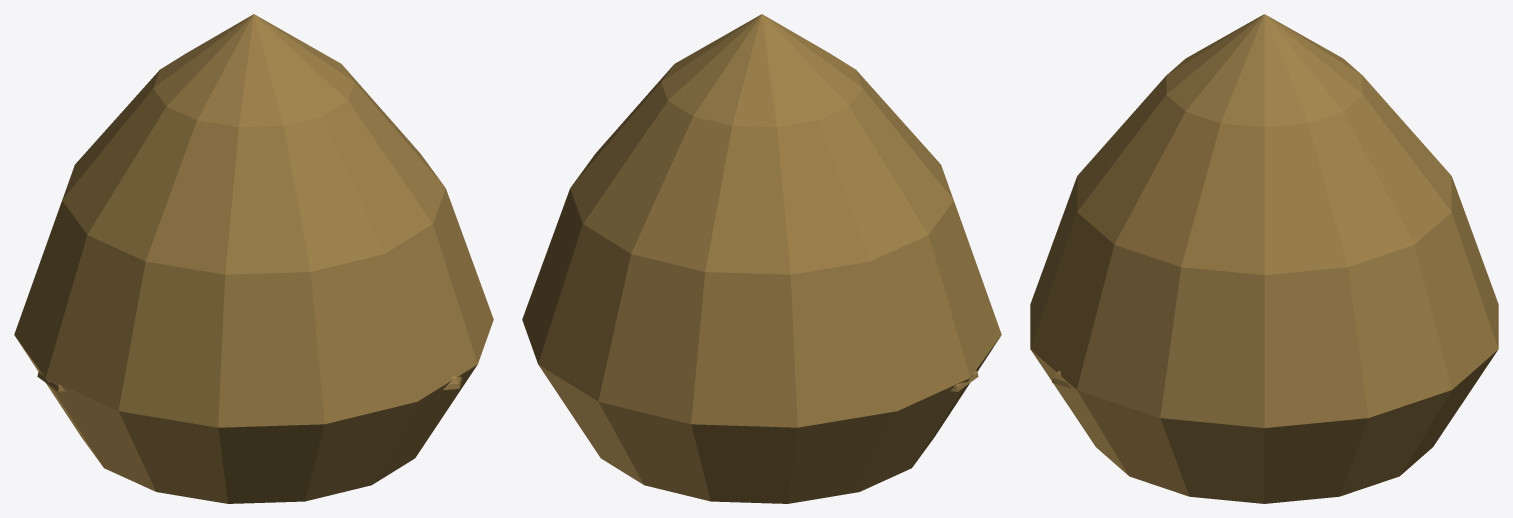
File: coxinha.obj
The picture shows the model from 3 angles, left to right: view 1: azimuth 30°, elevation 25°; view 2: azimuth 150°, elevation 25°; view 3: azimuth 270°, elevation 25°; orthographic projection.
Visible parts, largest first — view 1: coxinha; view 2: coxinha; view 3: coxinha.
Part boxes in pixels (left/top/right/bottom): coxinha: left=14, top=14, right=493, bottom=503; coxinha: left=522, top=14, right=1001, bottom=503; coxinha: left=1030, top=14, right=1498, bottom=503.
Size of the model in its own units: 1.24 by 1.35 by 1.21.
